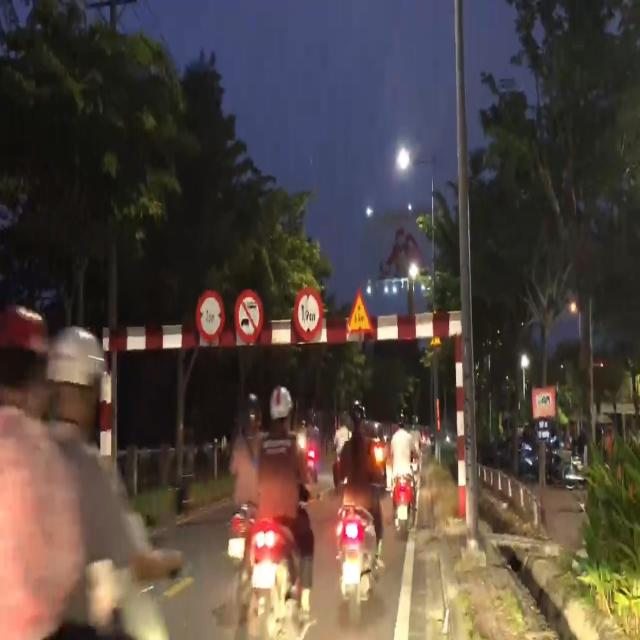Bien bao cam xe oto khach va xe oto tai: (234, 287, 264, 345)
Bien bao chieu cao tinh khong thuc te: (345, 286, 375, 337)
Bien bao han che chieu cao: (292, 283, 324, 344)
